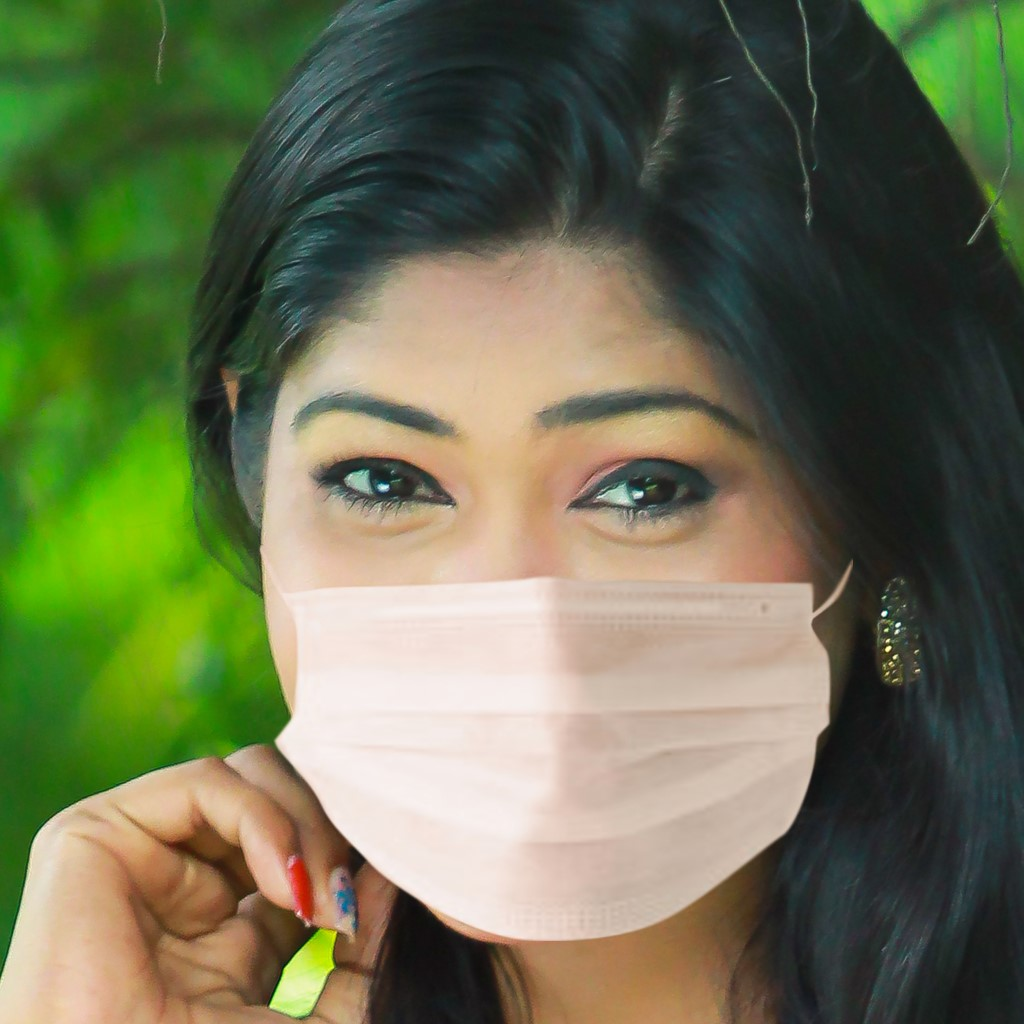con_mascara: (219, 143, 889, 926)
